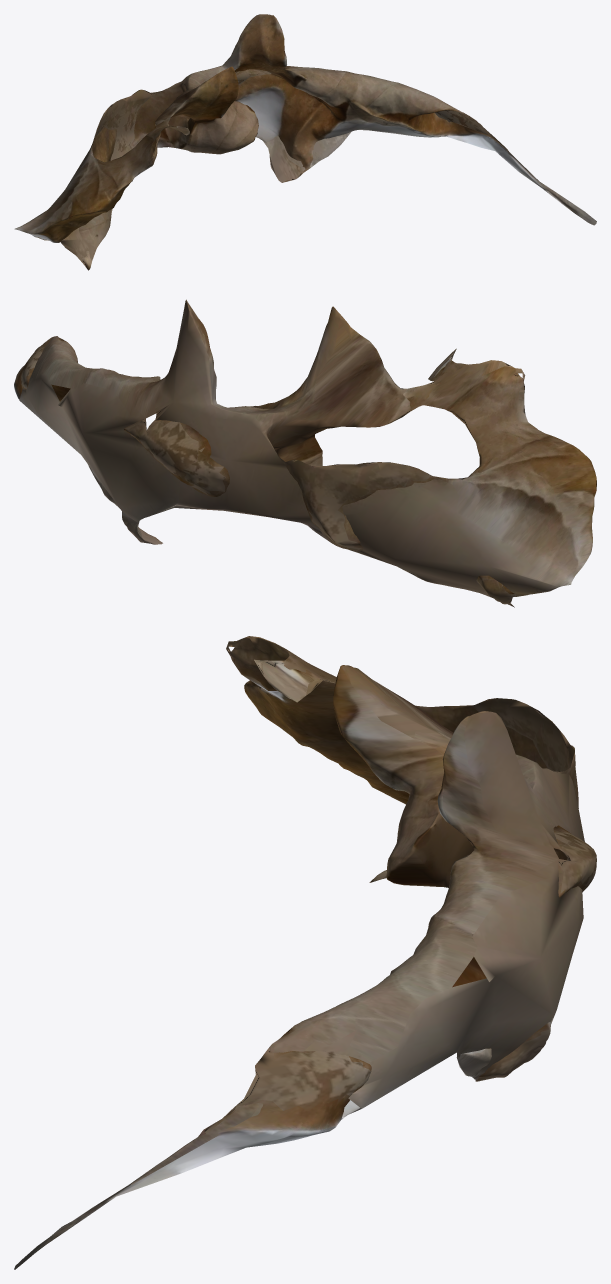
The model's file is leaf-01.glb.
3 renders of one model, top to bottom at view 1: azimuth 30°, elevation 25°; view 2: azimuth 150°, elevation 25°; view 3: azimuth 270°, elevation 25°, orthographic. The views are drawn at different scales.
Parts seen in each view (by area): view 1: Mesh; view 2: Mesh; view 3: Mesh.
Boxes of the visible parts, x1,y1,x2,y2 form: Mesh: [14, 14, 596, 270]; Mesh: [14, 299, 596, 607]; Mesh: [14, 636, 596, 1269].
Size of the model in its own units: 0.2481 by 0.0928 by 0.1322.
1 material, 1 textured.
